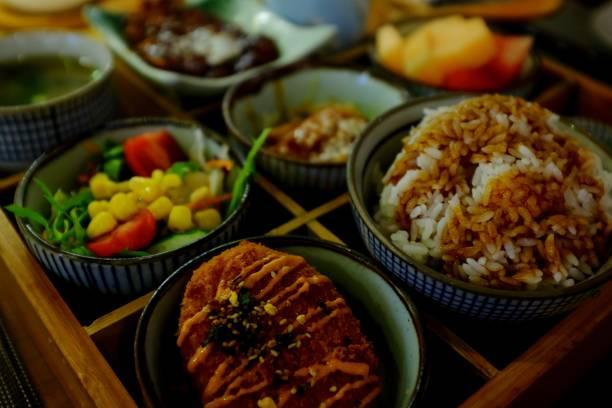Braised Crucian Carp: (347, 94, 608, 321), (137, 234, 429, 408), (14, 122, 252, 291), (224, 62, 421, 190)
